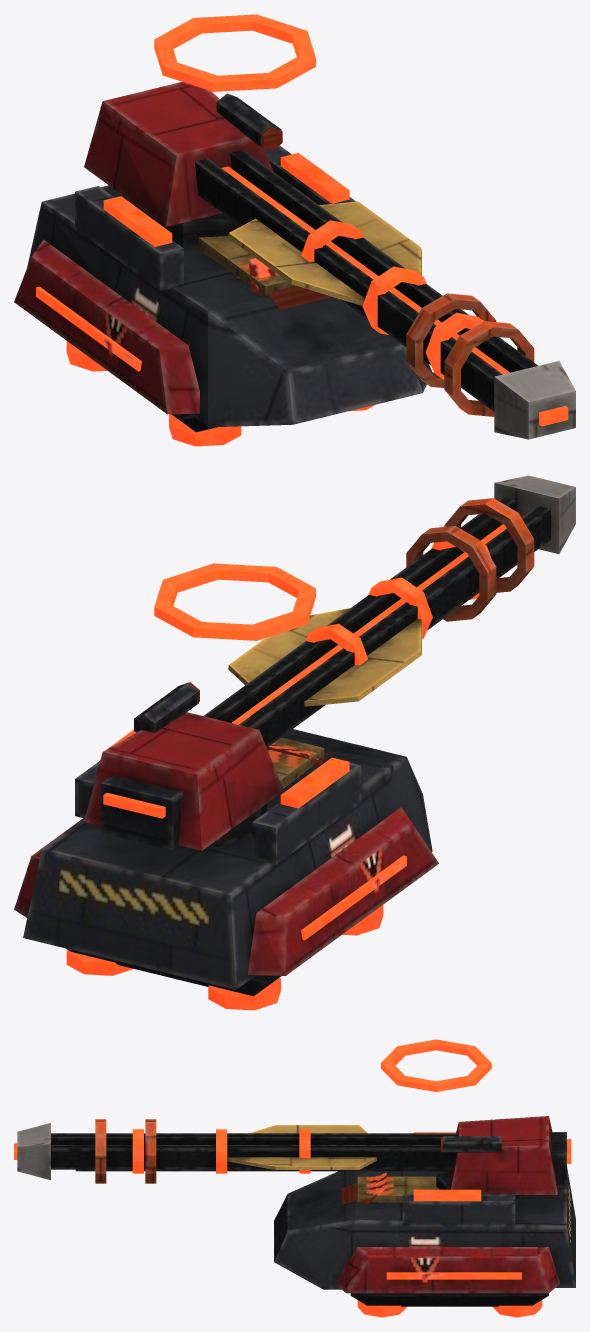
The model's file is u_lancer4_e.glb.
3 views of the same model, one above another, from view 1: azimuth 30°, elevation 25°; view 2: azimuth 150°, elevation 25°; view 3: azimuth 270°, elevation 25° (orthographic). The views are drawn at different scales.
Parts seen in each view (by area): view 1: u_lancer4_e; view 2: u_lancer4_e; view 3: u_lancer4_e.
Boxes of the visible parts, left/top/right/bottom form: u_lancer4_e: left=14, top=14, right=575, bottom=446; u_lancer4_e: left=14, top=475, right=575, bottom=1010; u_lancer4_e: left=14, top=1039, right=575, bottom=1317.
Bounding box in the file's own units: 1.11 × 1.31 × 3.02.
Materials: 1 (1 with a texture image).
